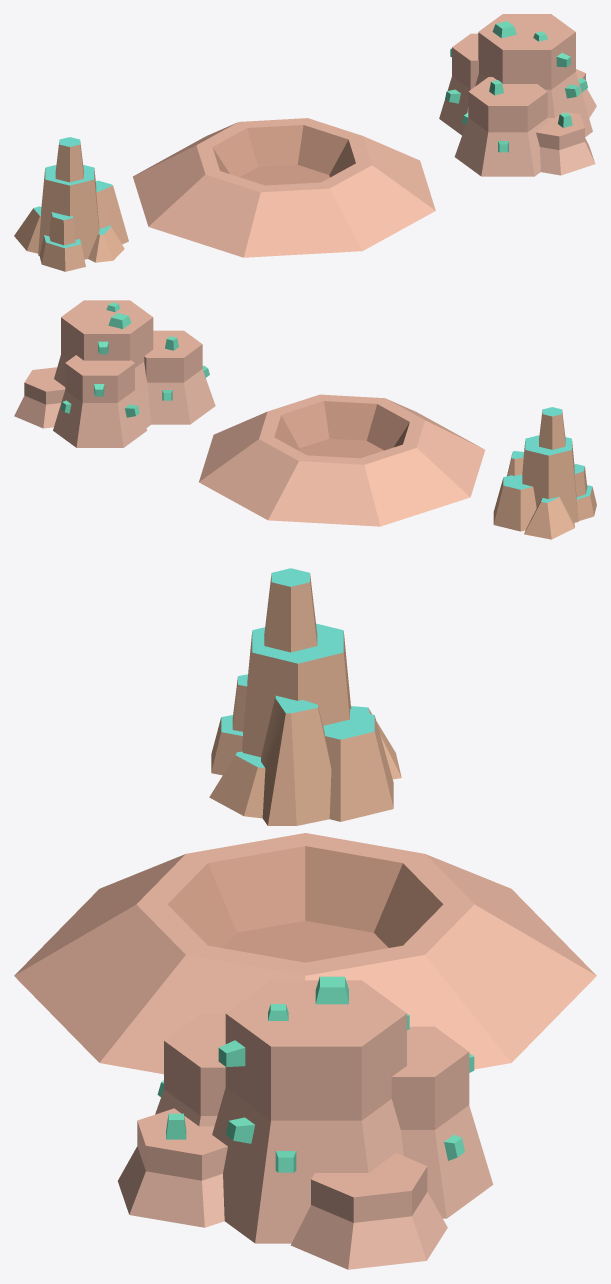
File: Volcano.fbx
The picture shows the model from 3 angles, top to bottom: view 1: azimuth 30°, elevation 25°; view 2: azimuth 150°, elevation 25°; view 3: azimuth 270°, elevation 25°; orthographic projection. The views are drawn at different scales.
Visible parts, largest first — view 1: Volcano_Crater, Volcano_ObsidianShard, Volcano_BasaltSpike; view 2: Volcano_Crater, Volcano_ObsidianShard, Volcano_BasaltSpike; view 3: Volcano_Crater, Volcano_ObsidianShard, Volcano_BasaltSpike.
Part boxes in pixels (x1,y1,x2,y2): Volcano_Crater: [133, 118, 435, 257]; Volcano_ObsidianShard: [439, 14, 596, 176]; Volcano_BasaltSpike: [14, 137, 128, 271]; Volcano_Crater: [199, 394, 485, 526]; Volcano_ObsidianShard: [14, 300, 215, 447]; Volcano_BasaltSpike: [493, 407, 596, 539]; Volcano_Crater: [14, 833, 596, 1074]; Volcano_ObsidianShard: [118, 976, 493, 1269]; Volcano_BasaltSpike: [209, 568, 401, 825].
Size of the model in its own units: 78.61 by 14 by 36.92.
3 materials, 3 textured.
